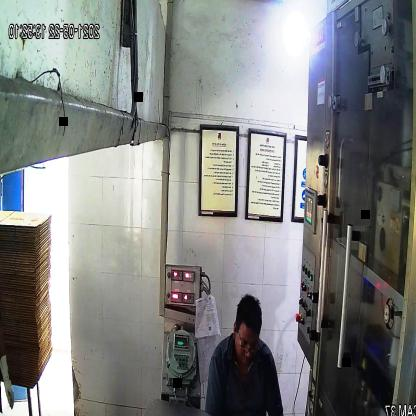goggles: (237, 333, 260, 356)
